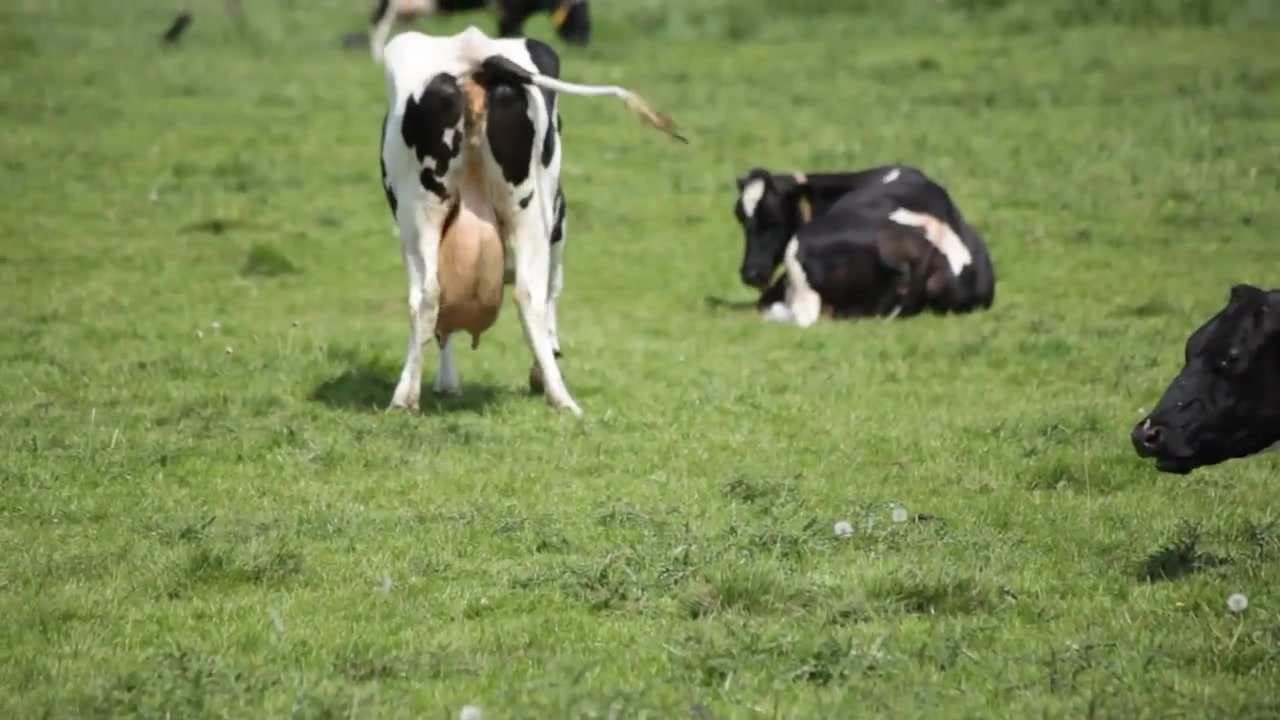cow: (373, 8, 690, 428)
